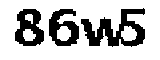5: (121, 4, 153, 52)
6: (47, 7, 81, 49)
8: (11, 6, 46, 50)
w: (80, 16, 122, 51)
